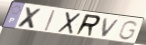G: (117, 20, 139, 41)
I: (43, 10, 57, 32)
R: (73, 13, 102, 38)
V: (100, 17, 122, 38)
X: (16, 6, 44, 31), (56, 11, 83, 35)
